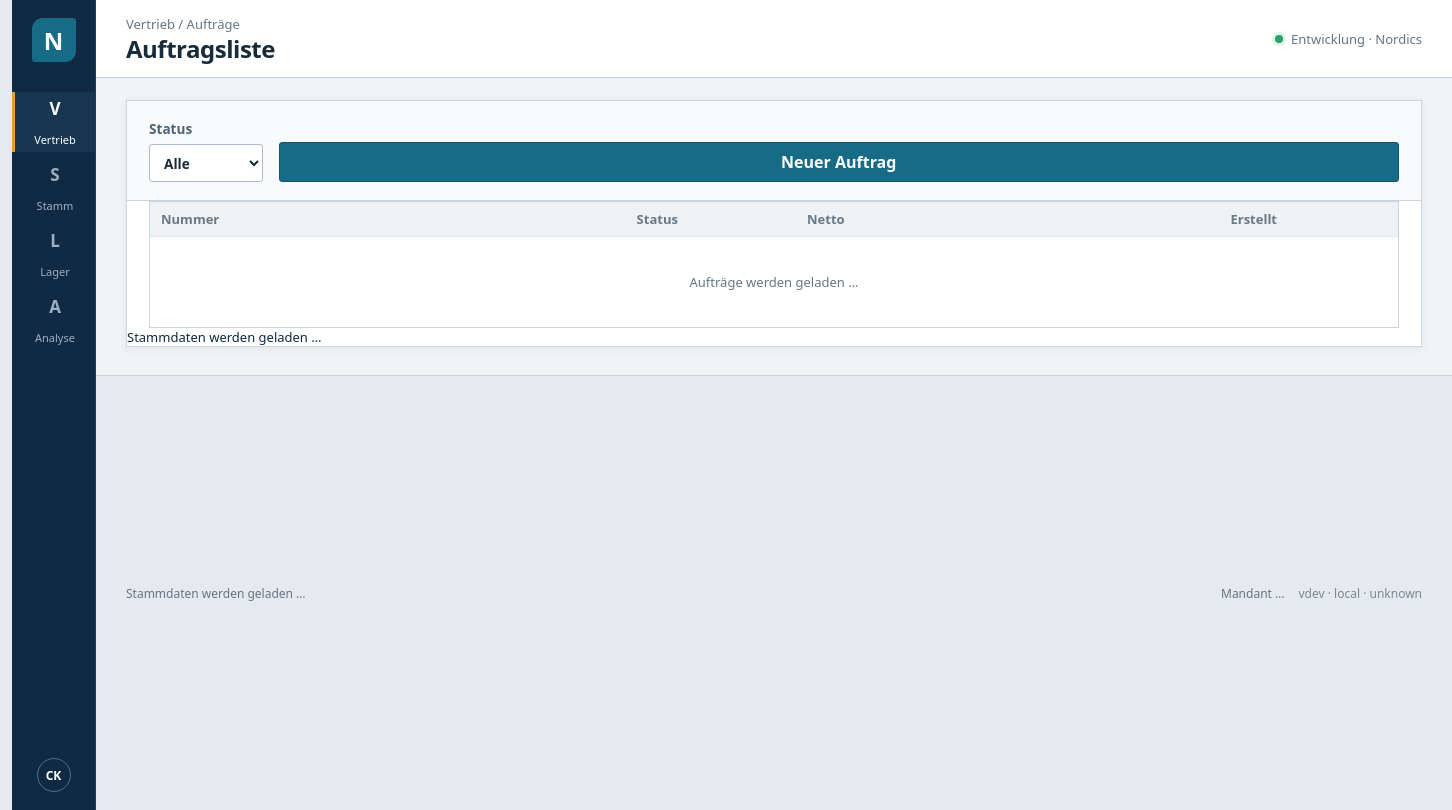
it: opens the lager workspace from the nav
Expected: the heading "Auftragsliste" is shown, [126,36,275,62]
Click the button titled "Lager".
click(54, 254)  # box [12,224,95,284]
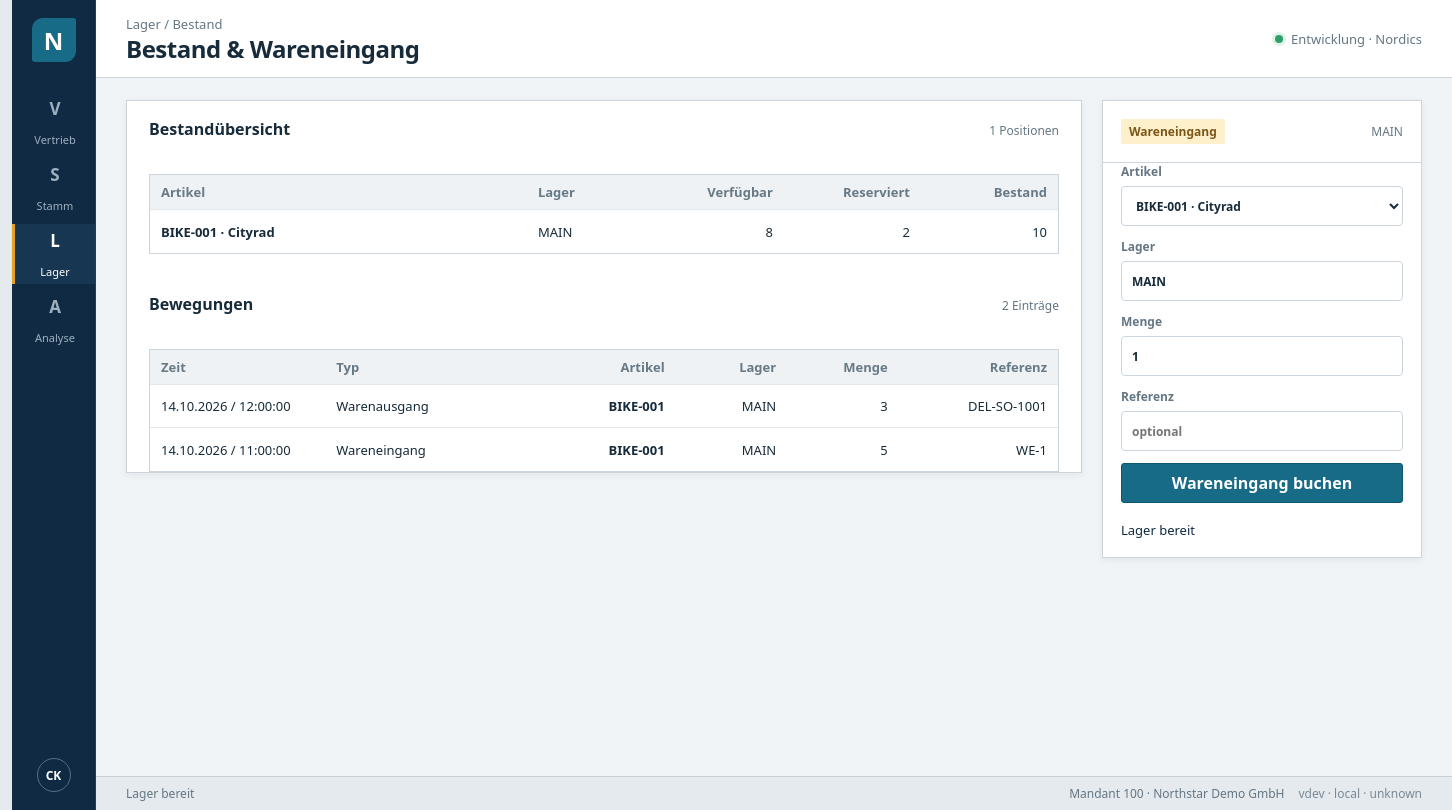
Expected: the heading "Bestand & Wareneingang" is shown, [126,36,420,62]
Expected: the button "Wareneingang buchen" is shown, [1121,463,1403,503]
Expected: the text "BIKE-001 · Cityrad" is shown, [161,222,275,240]
